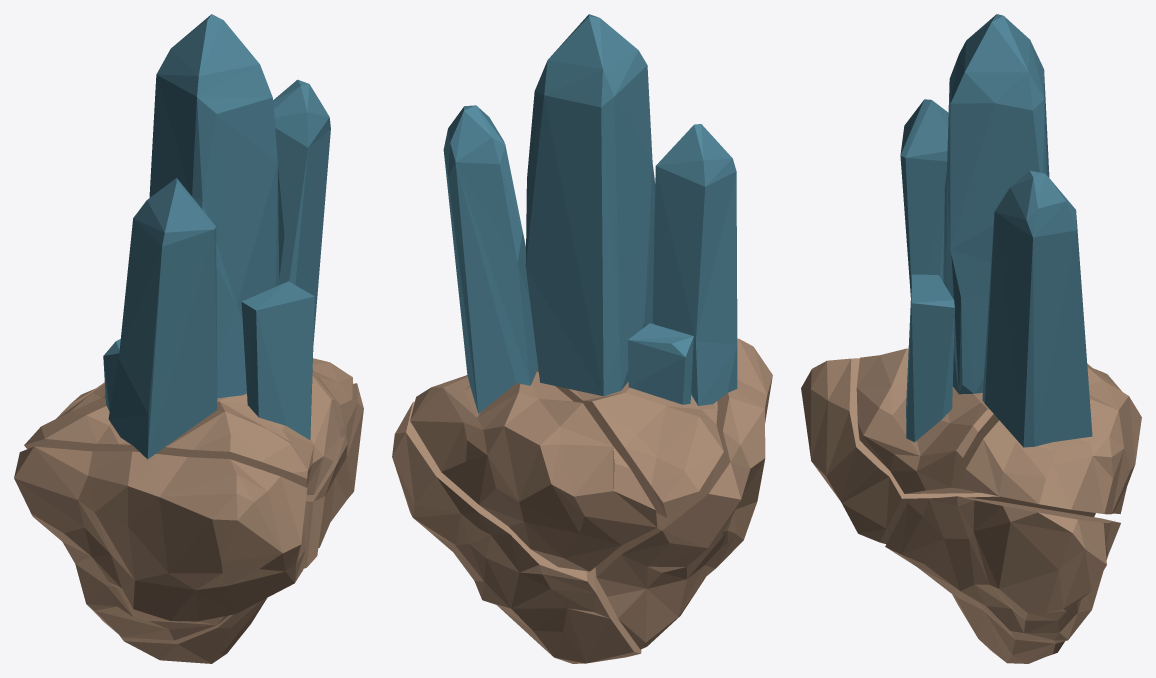
File: SM_LP_Mineral_2_Pieces.fbx
The picture shows the model from 3 angles, left to right: view 1: azimuth 30°, elevation 25°; view 2: azimuth 150°, elevation 25°; view 3: azimuth 270°, elevation 25°; orthographic projection. The views are drawn at different scales.
Visible parts, largest first — view 1: SM_LP_Mineral_2_Piece_1, SM_LP_Mineral_2_Piece_6, SM_LP_Mineral_2_Piece_8, SM_LP_Mineral_2_Piece_7, SM_LP_Mineral_2_Piece_3, SM_LP_Mineral_2_Piece_4, SM_LP_Mineral_2_Piece_9, SM_LP_Mineral_2_Piece_5, SM_LP_Mineral_2_Piece_2; view 2: SM_LP_Mineral_2_Piece_6, SM_LP_Mineral_2_Piece_5, SM_LP_Mineral_2_Piece_1, SM_LP_Mineral_2_Piece_9, SM_LP_Mineral_2_Piece_3, SM_LP_Mineral_2_Piece_8, SM_LP_Mineral_2_Piece_7, SM_LP_Mineral_2_Piece_2; view 3: SM_LP_Mineral_2_Piece_9, SM_LP_Mineral_2_Piece_3, SM_LP_Mineral_2_Piece_6, SM_LP_Mineral_2_Piece_5, SM_LP_Mineral_2_Piece_7, SM_LP_Mineral_2_Piece_1, SM_LP_Mineral_2_Piece_8, SM_LP_Mineral_2_Piece_4.
Boxes of the visible parts, x1,y1,x2,y2 form: SM_LP_Mineral_2_Piece_1: (14, 446, 309, 640); SM_LP_Mineral_2_Piece_6: (149, 14, 284, 398); SM_LP_Mineral_2_Piece_8: (108, 178, 217, 459); SM_LP_Mineral_2_Piece_7: (24, 375, 340, 494); SM_LP_Mineral_2_Piece_3: (273, 79, 330, 344); SM_LP_Mineral_2_Piece_4: (241, 281, 314, 439); SM_LP_Mineral_2_Piece_9: (119, 383, 363, 663); SM_LP_Mineral_2_Piece_5: (56, 358, 352, 428); SM_LP_Mineral_2_Piece_2: (103, 339, 120, 411); SM_LP_Mineral_2_Piece_6: (525, 14, 655, 396); SM_LP_Mineral_2_Piece_5: (410, 371, 657, 571); SM_LP_Mineral_2_Piece_1: (595, 338, 772, 649); SM_LP_Mineral_2_Piece_9: (392, 401, 641, 663); SM_LP_Mineral_2_Piece_3: (443, 105, 538, 413); SM_LP_Mineral_2_Piece_8: (652, 124, 737, 405); SM_LP_Mineral_2_Piece_7: (537, 369, 723, 517); SM_LP_Mineral_2_Piece_2: (628, 323, 693, 404); SM_LP_Mineral_2_Piece_9: (885, 496, 1120, 663); SM_LP_Mineral_2_Piece_3: (982, 170, 1092, 447); SM_LP_Mineral_2_Piece_6: (943, 14, 1049, 394); SM_LP_Mineral_2_Piece_5: (959, 365, 1141, 514); SM_LP_Mineral_2_Piece_7: (856, 348, 1090, 493); SM_LP_Mineral_2_Piece_1: (801, 358, 1095, 543); SM_LP_Mineral_2_Piece_8: (900, 99, 948, 296); SM_LP_Mineral_2_Piece_4: (906, 274, 954, 442).
Bounding box in the file's own units: 0.8976 × 1.64 × 0.7846.
